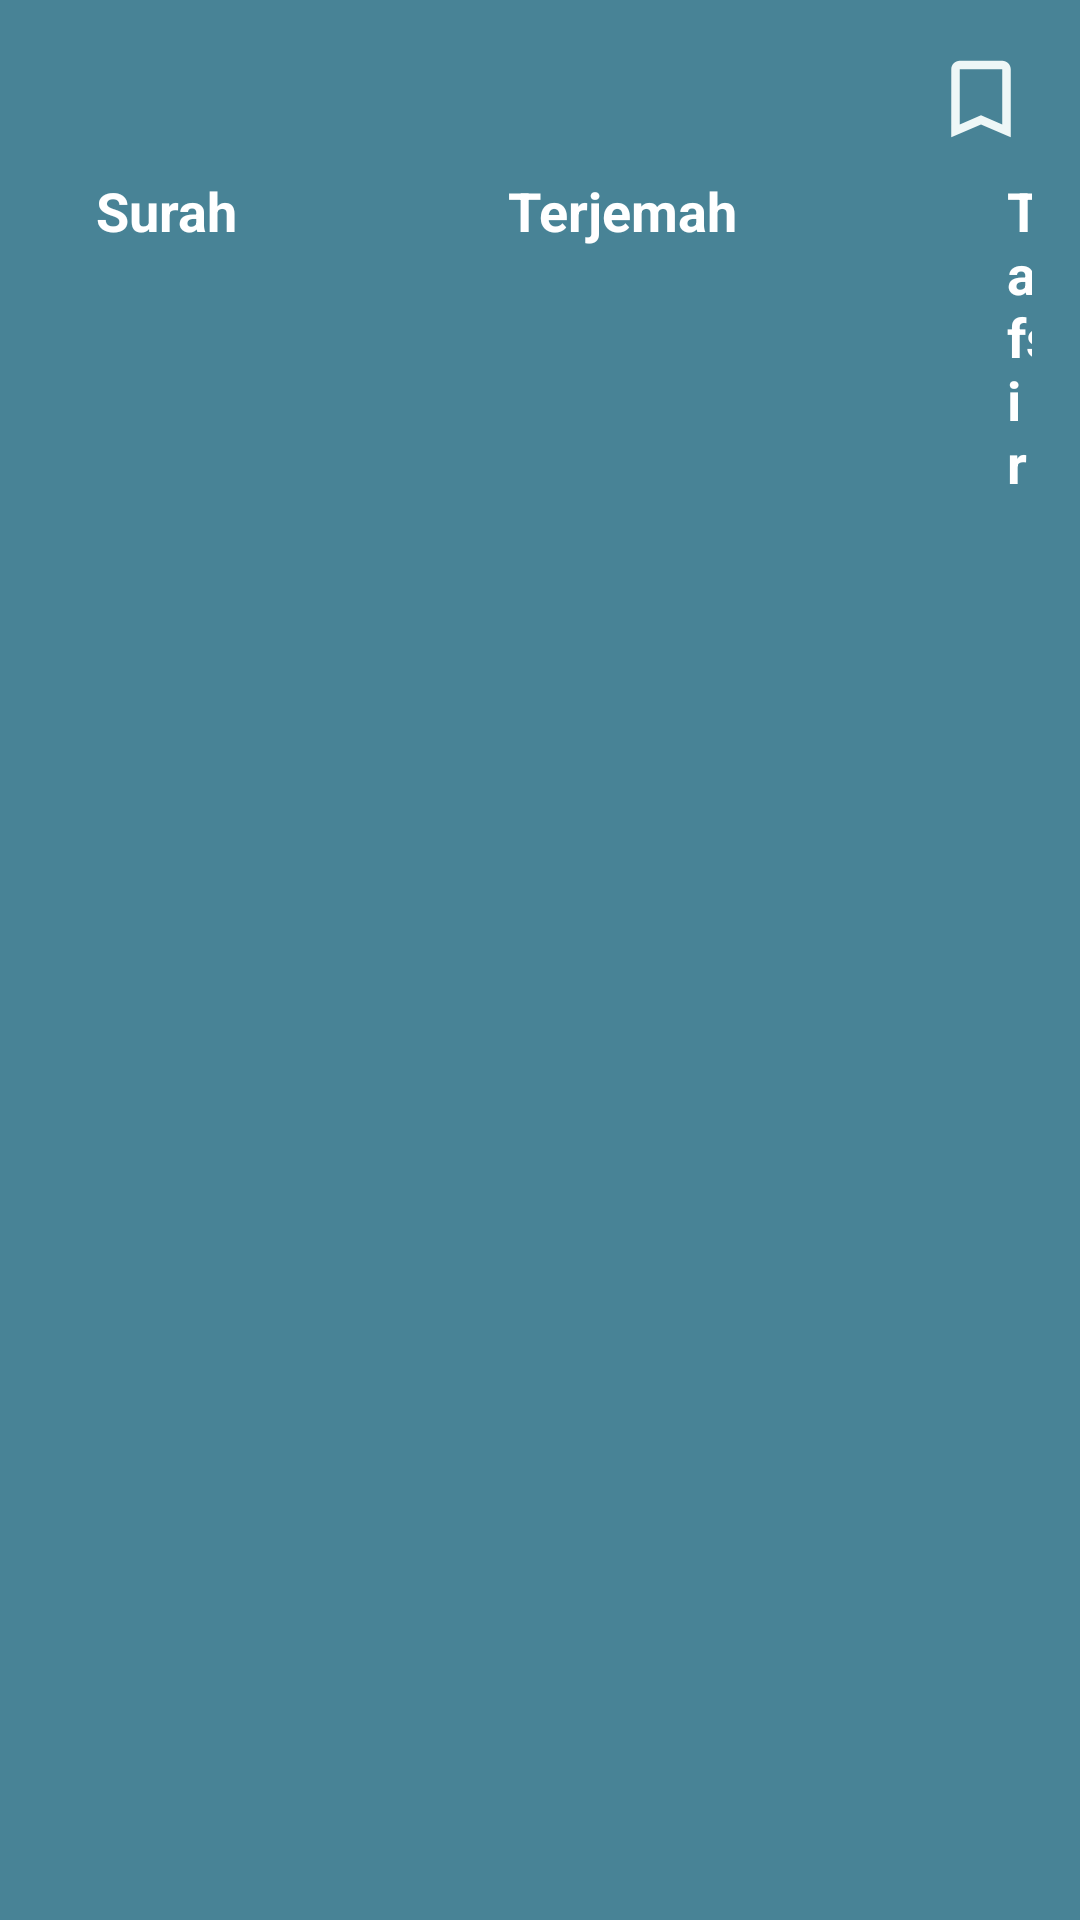

Screen size 1080 x 1920. Icon name, then its box in pixels as (x1, y1, x2, y2):
bookmark border: (951, 60, 1011, 137)
